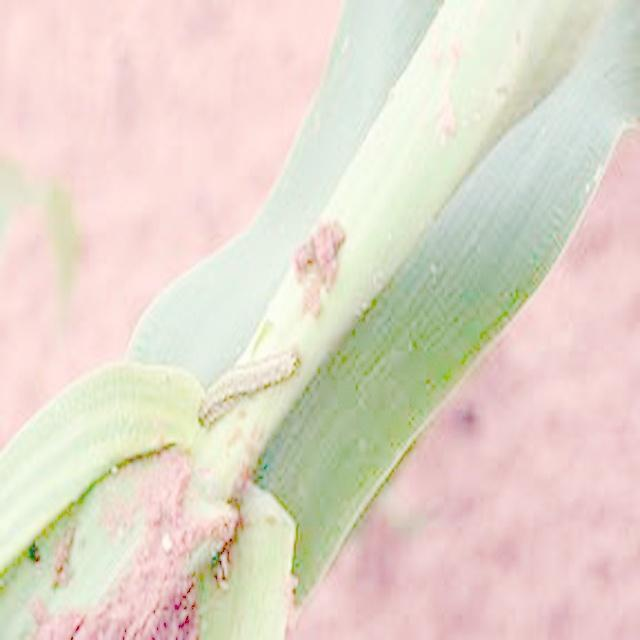gusano_cogollero: (192, 344, 298, 426)
